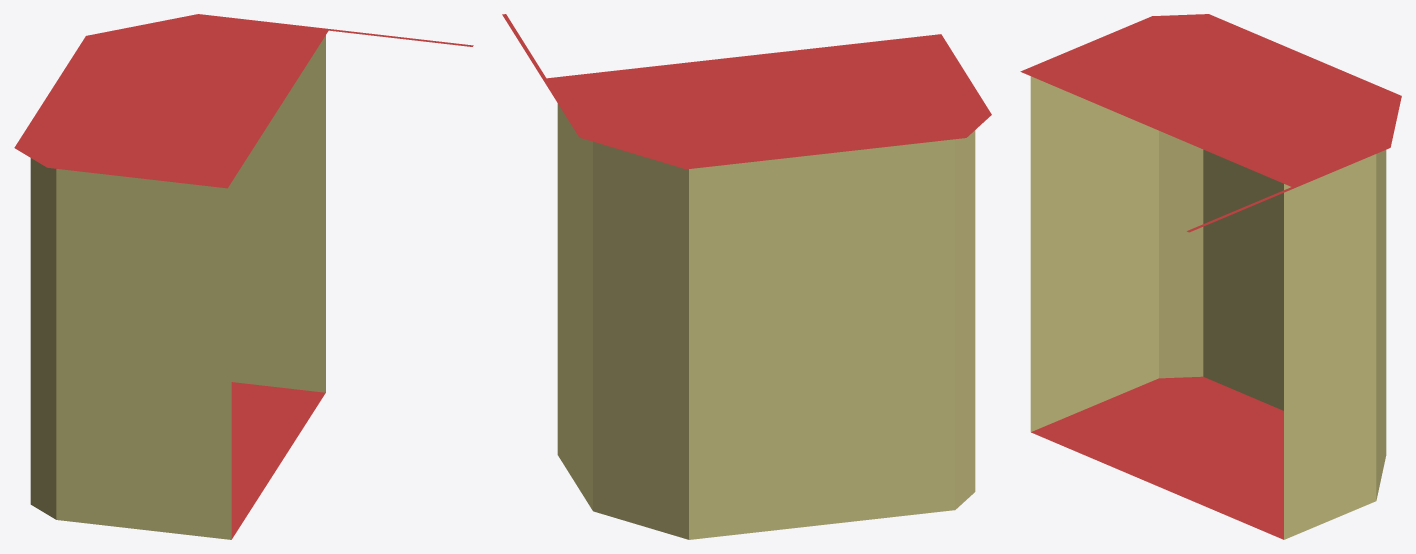
The picture shows the model from 3 angles, left to right: view 1: azimuth 30°, elevation 25°; view 2: azimuth 150°, elevation 25°; view 3: azimuth 270°, elevation 25°; orthographic projection. The views are drawn at different scales.
Bounding box in the file's own units: 8.68 × 6.41 × 6.6.
